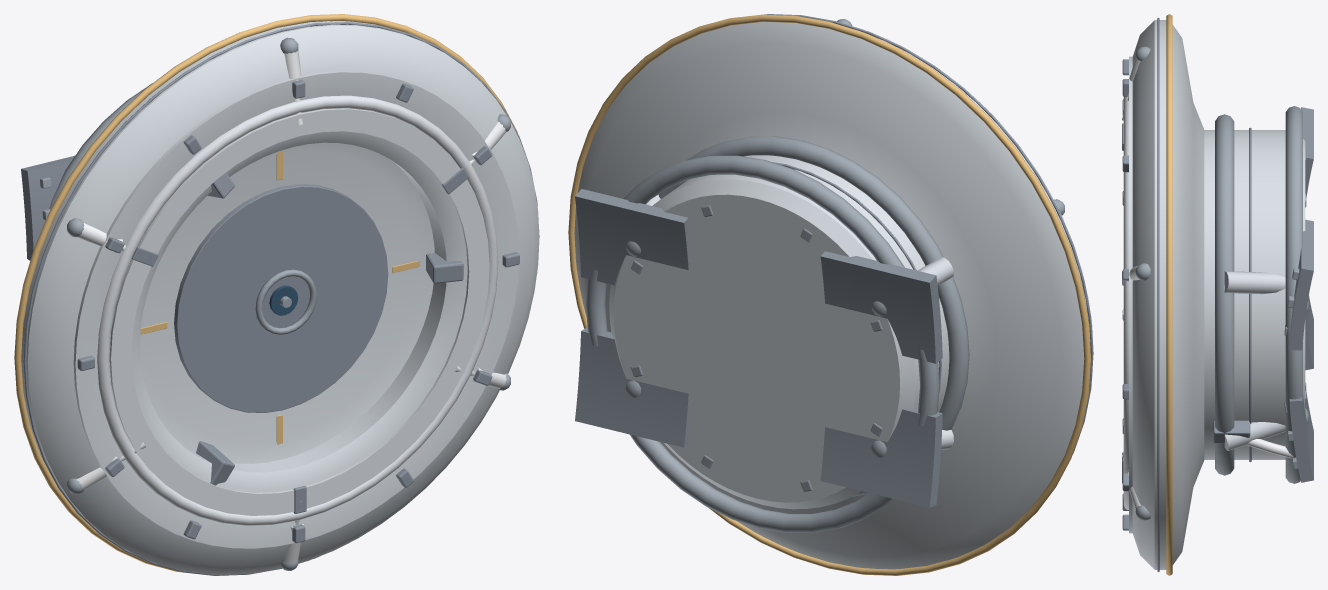
The model's file is docking-port-standard.glb.
3 renders of one model, left to right at view 1: azimuth 30°, elevation 25°; view 2: azimuth 150°, elevation 25°; view 3: azimuth 270°, elevation 25°, orthographic. The views are drawn at different scales.
Parts seen in each view (by area): view 1: drum, dock_hatch, capture_ring, interface-ring, dock_stripe, panel_seam_fwd, capture_hooks, hull_saddle:2, dock_hatch_wheel, capture_latches, guide_petal_0, aft_mount_flange (+2 smaller); view 2: drum, aft_mount_flange, dock_stripe, dock_collar, hull_saddle:3, hull_saddle:2, hull_saddle:1, hull_saddle:0, panel_seam_fwd, aft_bolts, panel_seam_trunk; view 3: drum, dock_collar, aft_mount_flange, dock_stripe, interface-ring, hull_saddle:0, panel_seam_fwd, hull_saddle:1, dock_leg:0, capture_hooks, panel_seam_trunk, dock_leg:1 (+4 smaller).
Boxes of the visible parts, x1,y1,x2,y2 form: drum: (21,21,539,575); dock_hatch: (174,184,388,412); capture_ring: (109,108,489,515); interface-ring: (97,95,498,525); dock_stripe: (14,14,518,572); panel_seam_fwd: (23,22,539,575); capture_hooks: (77,80,519,543); hull_saddle:2: (21,155,74,260); dock_hatch_wheel: (255,269,316,334); capture_latches: (131,167,468,513); guide_petal_0: (426,252,463,283); aft_mount_flange: (49,83,152,209); drum: (574,22,1093,569); aft_mount_flange: (586,155,939,532); dock_stripe: (568,14,1090,575); dock_collar: (658,136,969,496); hull_saddle:3: (820,407,942,507); hull_saddle:2: (820,251,942,363); hull_saddle:1: (575,327,688,447); hull_saddle:0: (575,189,688,285); panel_seam_fwd: (764,14,1093,453); aft_bolts: (631,205,882,491); panel_seam_trunk: (665,162,941,393); drum: (1129,20,1305,569); dock_collar: (1215,114,1234,475); aft_mount_flange: (1285,106,1302,483); dock_stripe: (1166,14,1172,575); interface-ring: (1123,96,1128,509); hull_saddle:0: (1289,219,1313,350); panel_seam_fwd: (1157,18,1159,571); hull_saddle:1: (1289,385,1313,482); dock_leg:0: (1224,271,1285,294); capture_hooks: (1122,59,1128,530); panel_seam_trunk: (1249,127,1251,462); dock_leg:1: (1224,422,1285,450).
Bounding box in the file's own units: 3.06 × 3.06 × 1.04.
